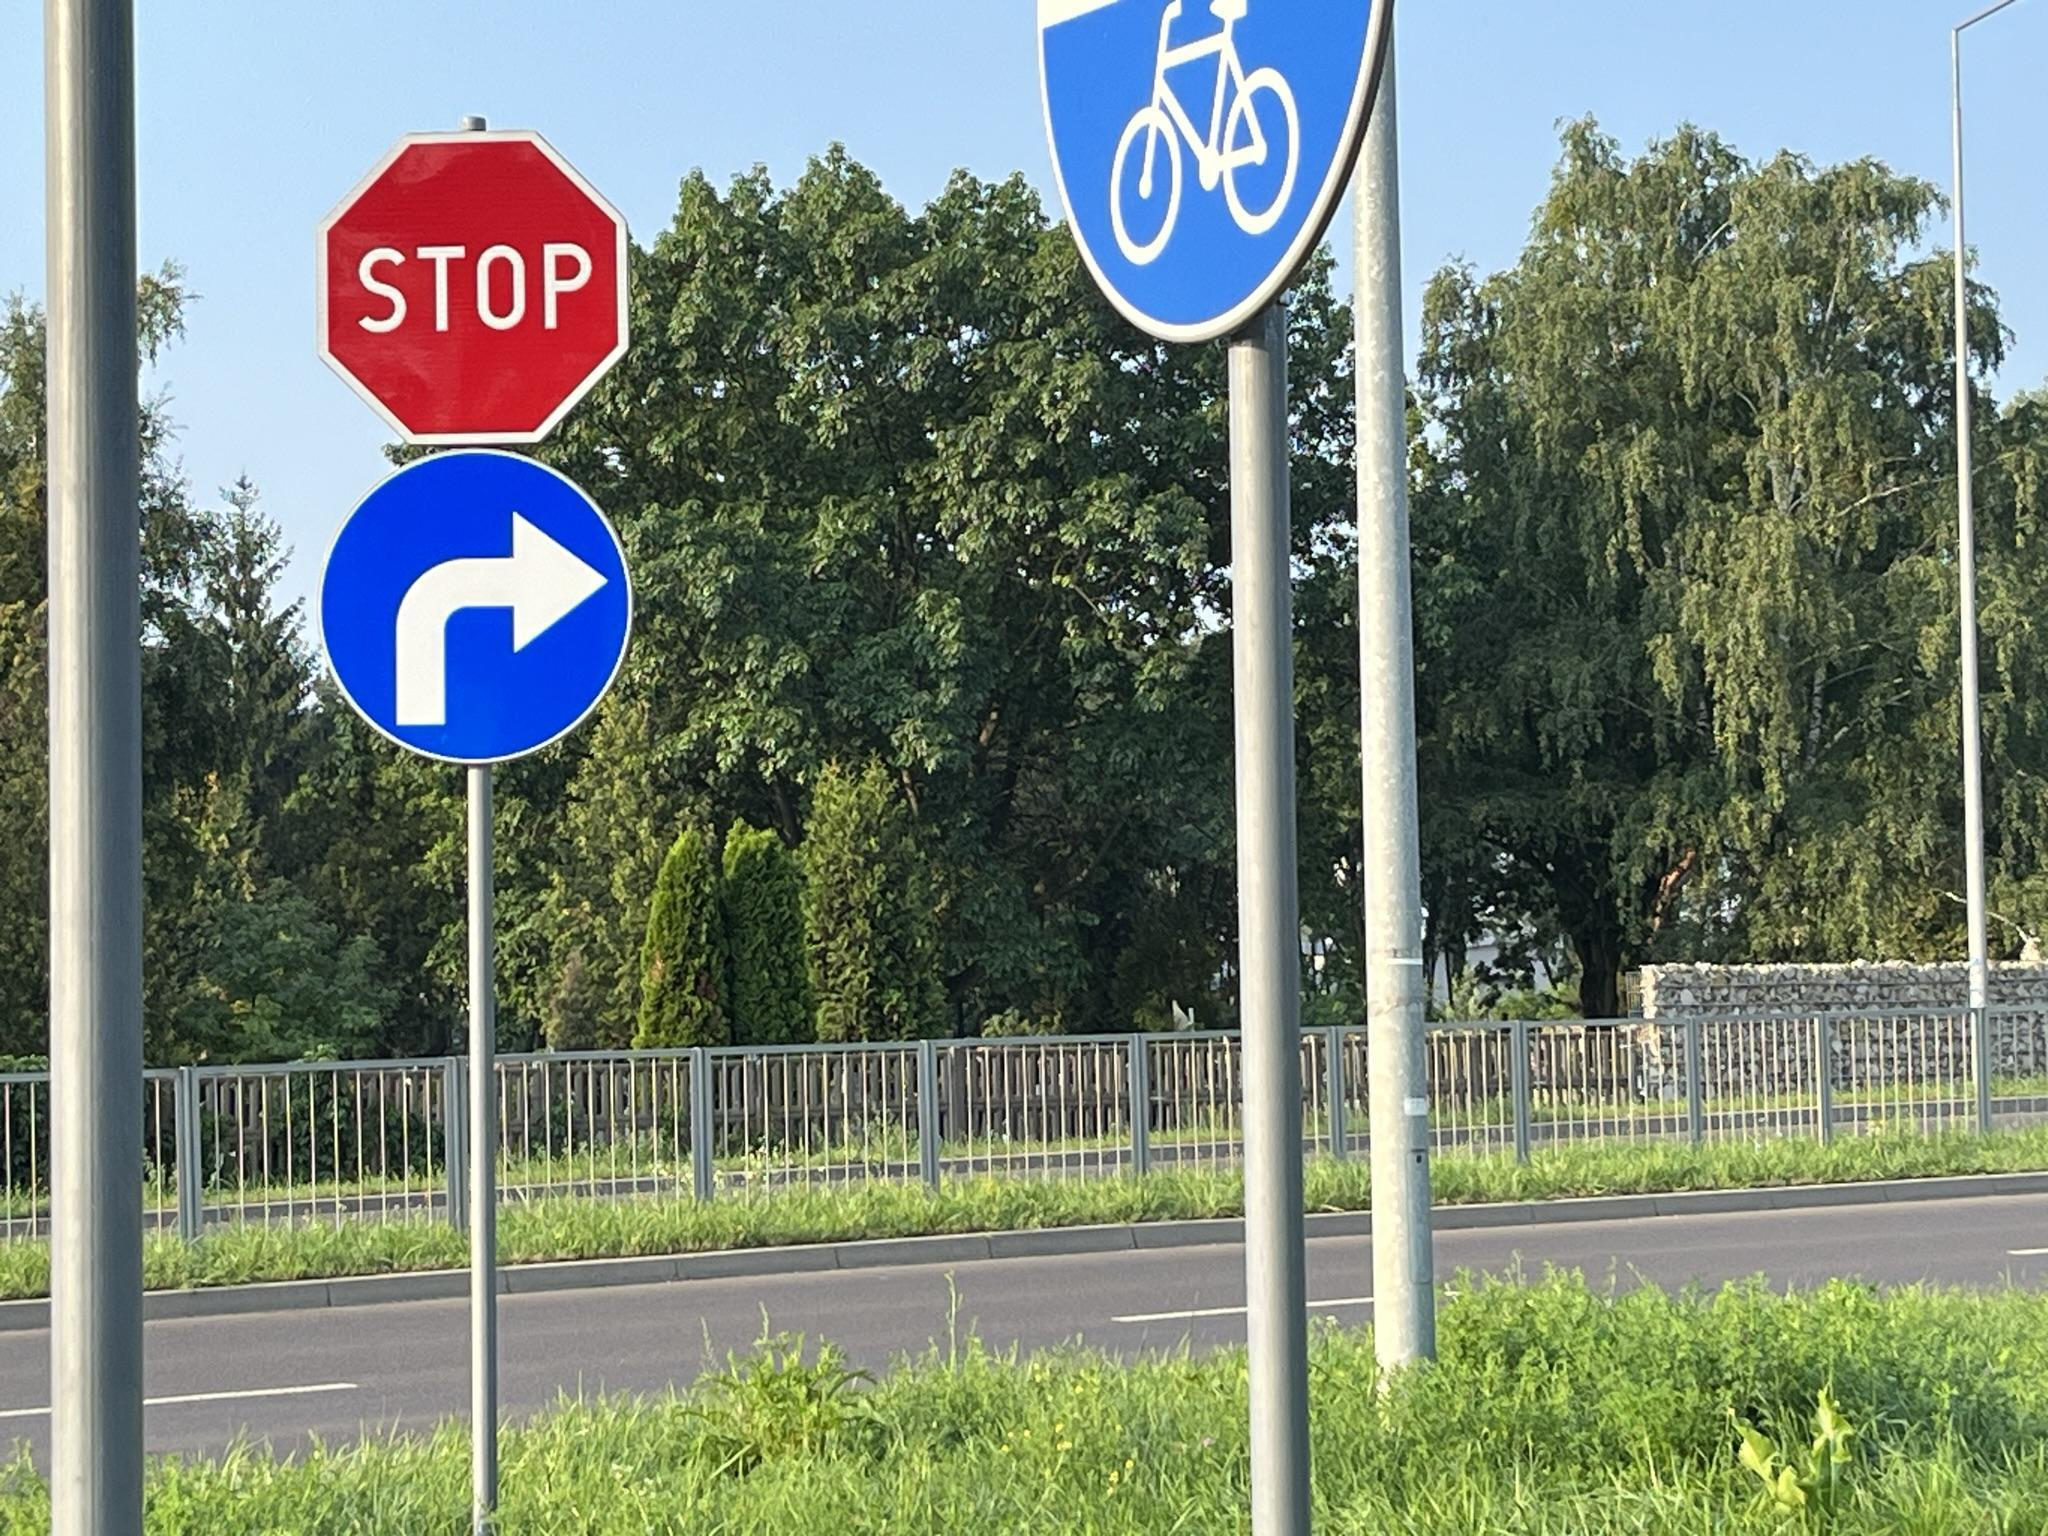mandatory: (1035, 0, 1405, 344), (318, 449, 635, 768)
prohibitory: (319, 127, 632, 445)
